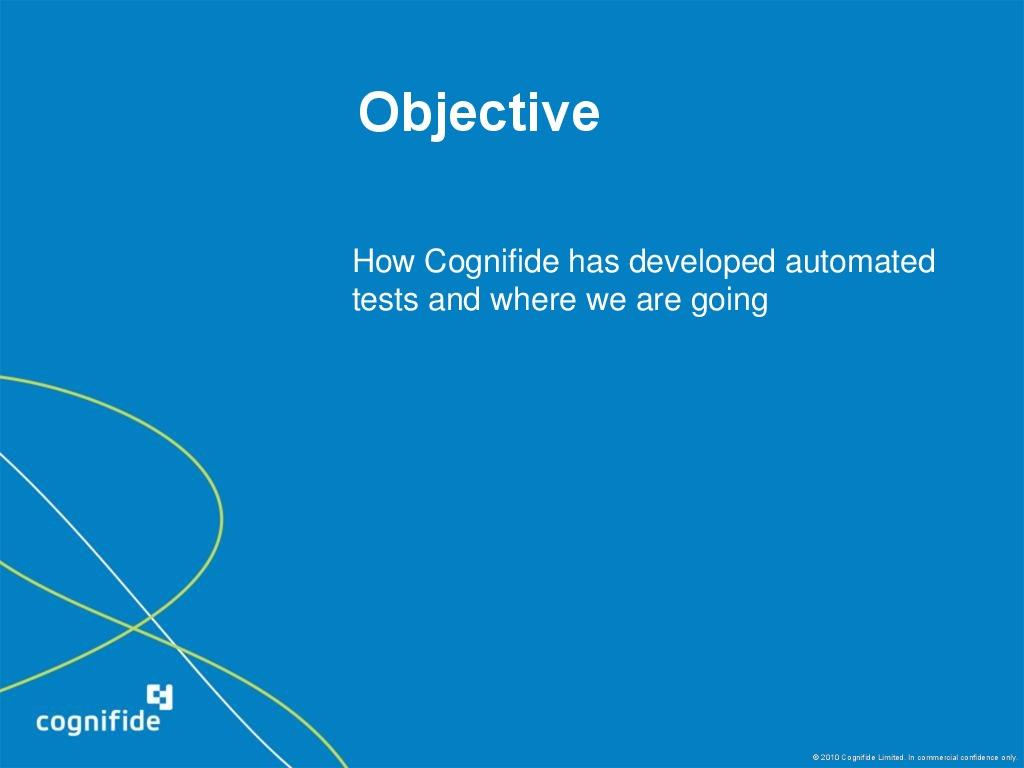paragraph: (330, 210, 954, 347)
subtitle: (16, 684, 203, 754)
title: (334, 76, 618, 157)
